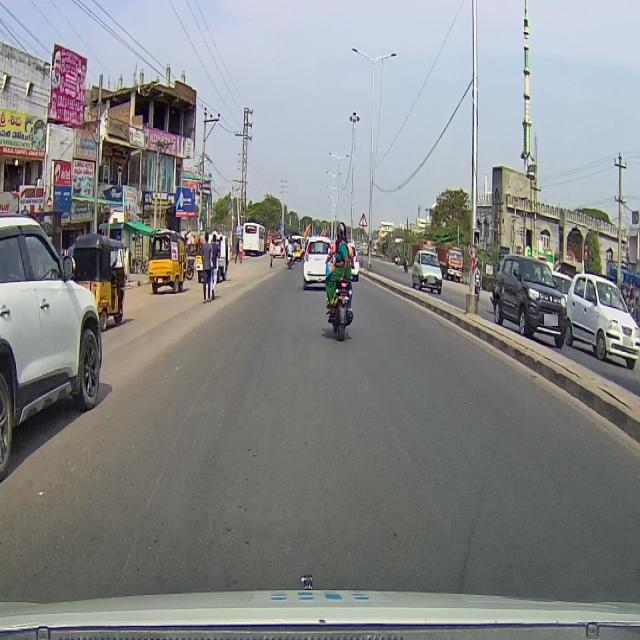car ahead at: (0, 216, 105, 480)
